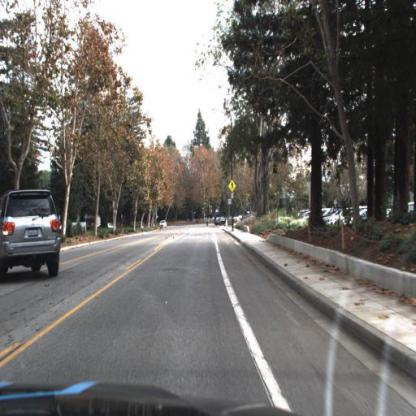car: (1, 190, 63, 286), (159, 221, 170, 233)
